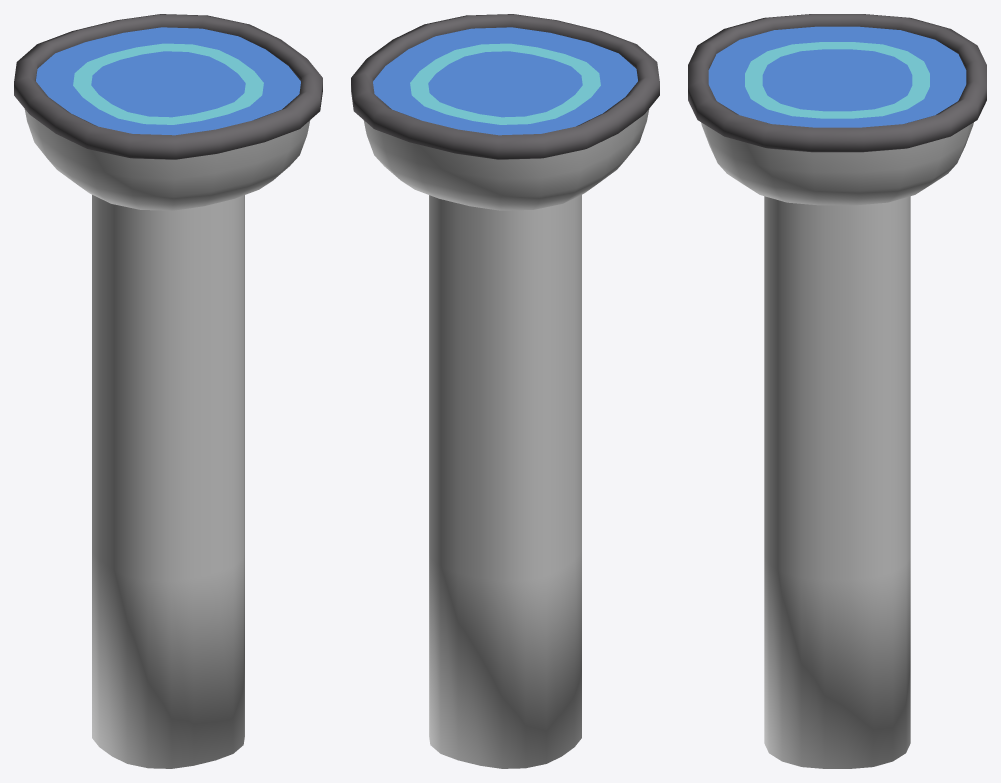
File: Tower_normal_1.fbx
The picture shows the model from 3 angles, left to right: view 1: azimuth 30°, elevation 25°; view 2: azimuth 150°, elevation 25°; view 3: azimuth 270°, elevation 25°; orthographic projection.
Visible parts, largest first — view 1: Cube.061; view 2: Cube.061; view 3: Cube.061.
Part boxes in pixels (left/top/right/bottom): Cube.061: left=14, top=14, right=322, bottom=768; Cube.061: left=351, top=14, right=659, bottom=768; Cube.061: left=688, top=14, right=986, bottom=768.
Size of the model in its own units: 281 by 705 by 286.
